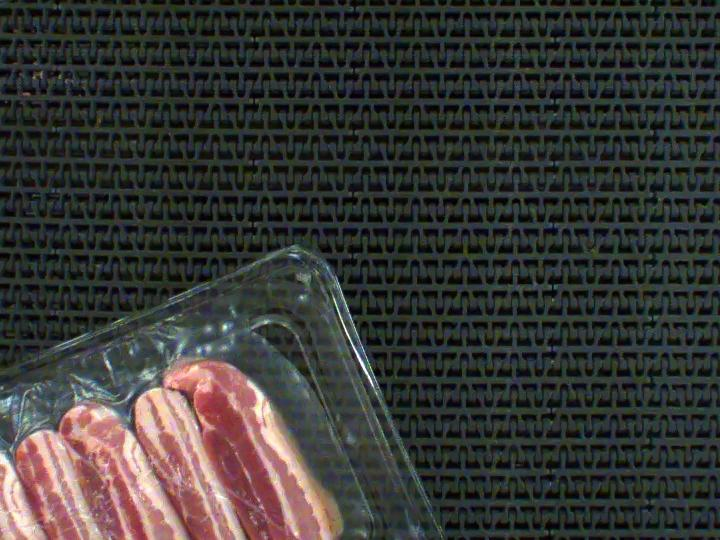unsealed: (0, 288, 286, 540)
